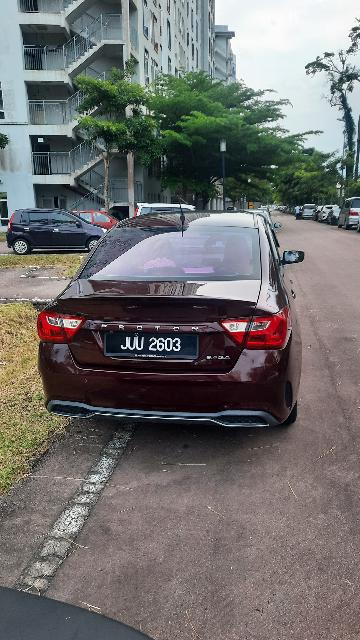License_Plate: (102, 328, 201, 363)
car: (33, 201, 313, 435)
